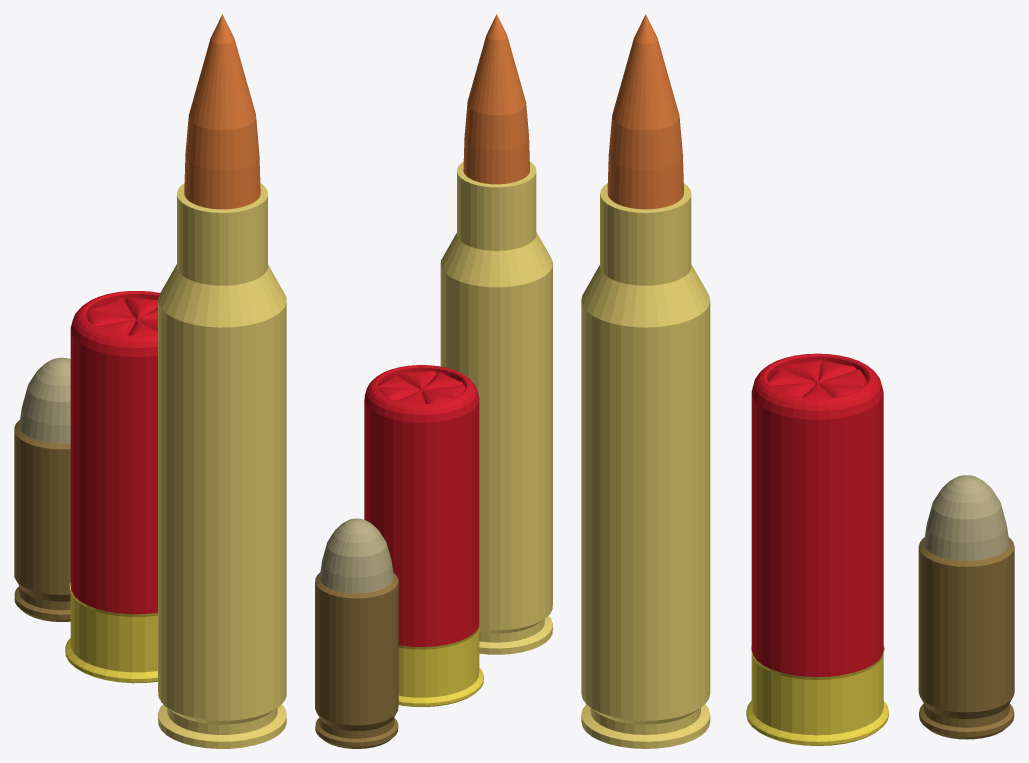
Rendered from bullets.fbx.
The picture shows the model from 3 angles, left to right: view 1: azimuth 30°, elevation 25°; view 2: azimuth 150°, elevation 25°; view 3: azimuth 270°, elevation 25°; orthographic projection. The views are drawn at different scales.
Parts seen in each view (by area): view 1: bullet for rifle, bullet for shotgun, bullet for pistol; view 2: bullet for rifle, bullet for shotgun, bullet for pistol; view 3: bullet for rifle, bullet for shotgun, bullet for pistol.
Part boxes in pixels (x1,y1,x2,y2): bullet for rifle: (158, 14, 286, 748); bullet for shotgun: (65, 291, 159, 683); bullet for pistol: (14, 357, 70, 621); bullet for rifle: (440, 14, 552, 654); bullet for shotgun: (364, 365, 483, 706); bullet for pistol: (315, 518, 398, 748); bullet for rifle: (581, 14, 710, 748); bullet for shotgun: (746, 353, 888, 745); bullet for pistol: (918, 475, 1014, 739).
Bounding box in the file's own units: 168 × 921 × 511.
